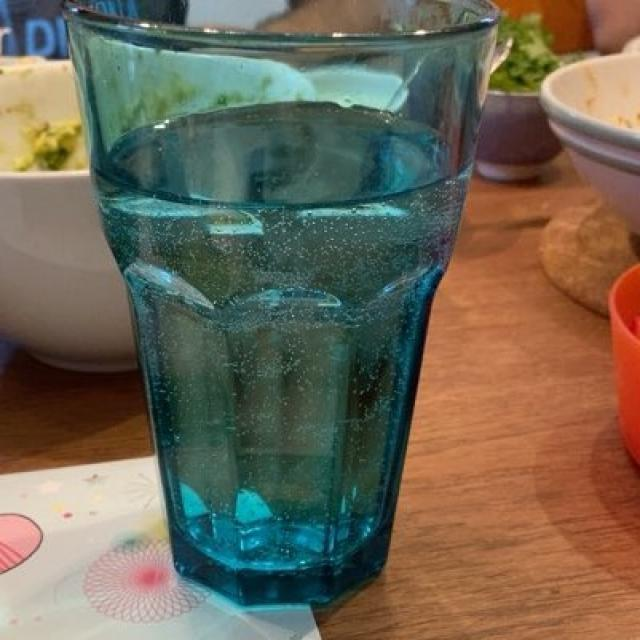water: (92, 110, 468, 550)
